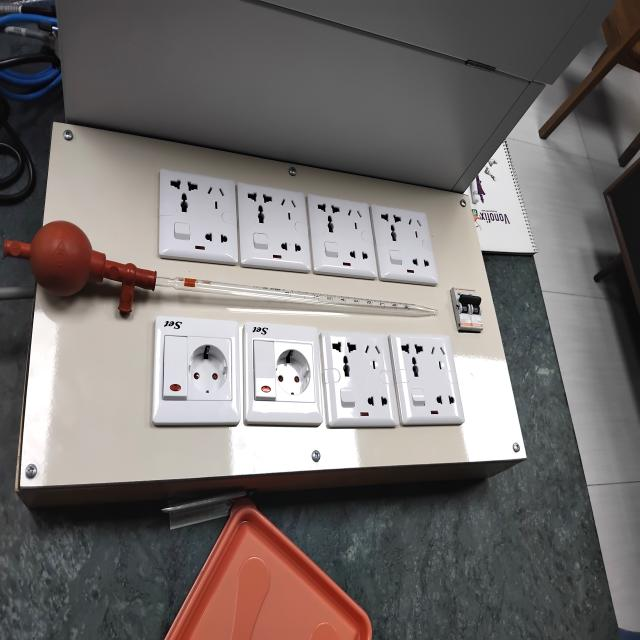Volumetric_Pipet: (0, 210, 444, 344)
